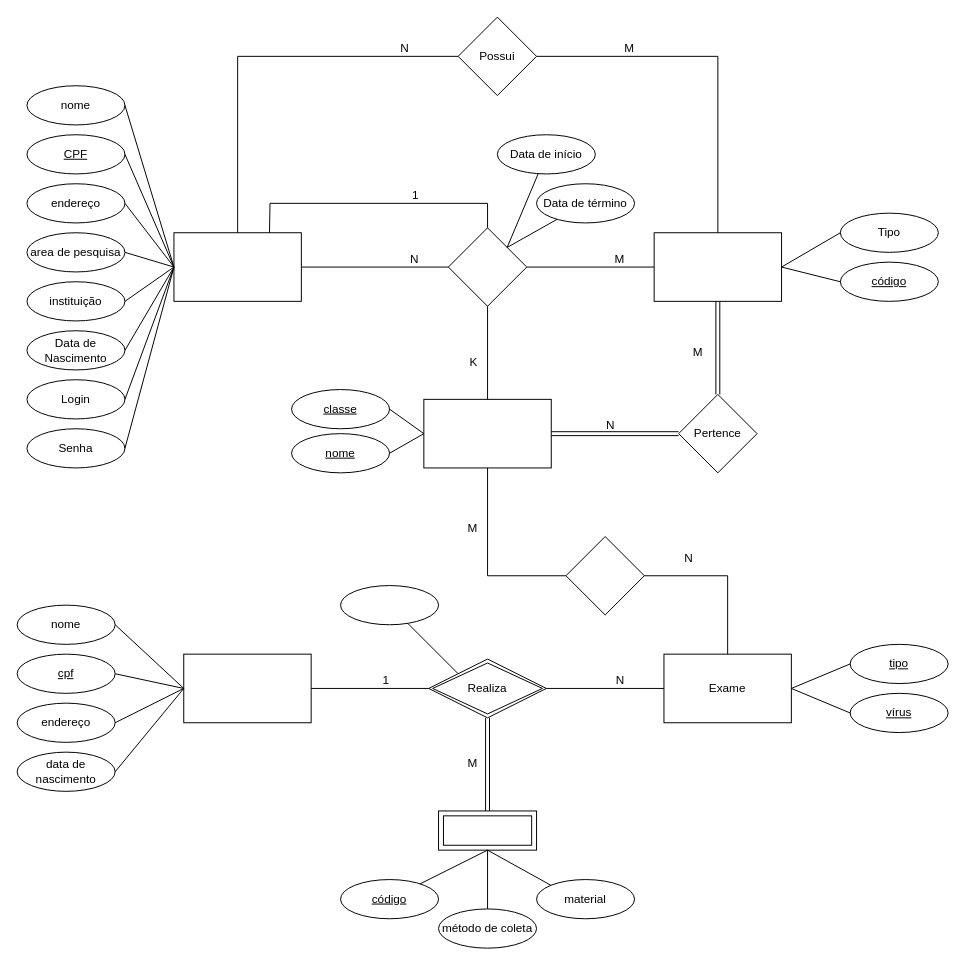
Some shapes in this 965 by 965 pixel diagram are drawn without their labels. The centre of each missing label's shape, as x and y in pixels:
Amostra: (487,830)
data de realização: (389,605)
Gerencia: (604,575)
Paciente: (247,688)
Perfil: (717,266)
Serviço: (487,433)
Tutelamento: (487,266)
Usuário: (237,266)
